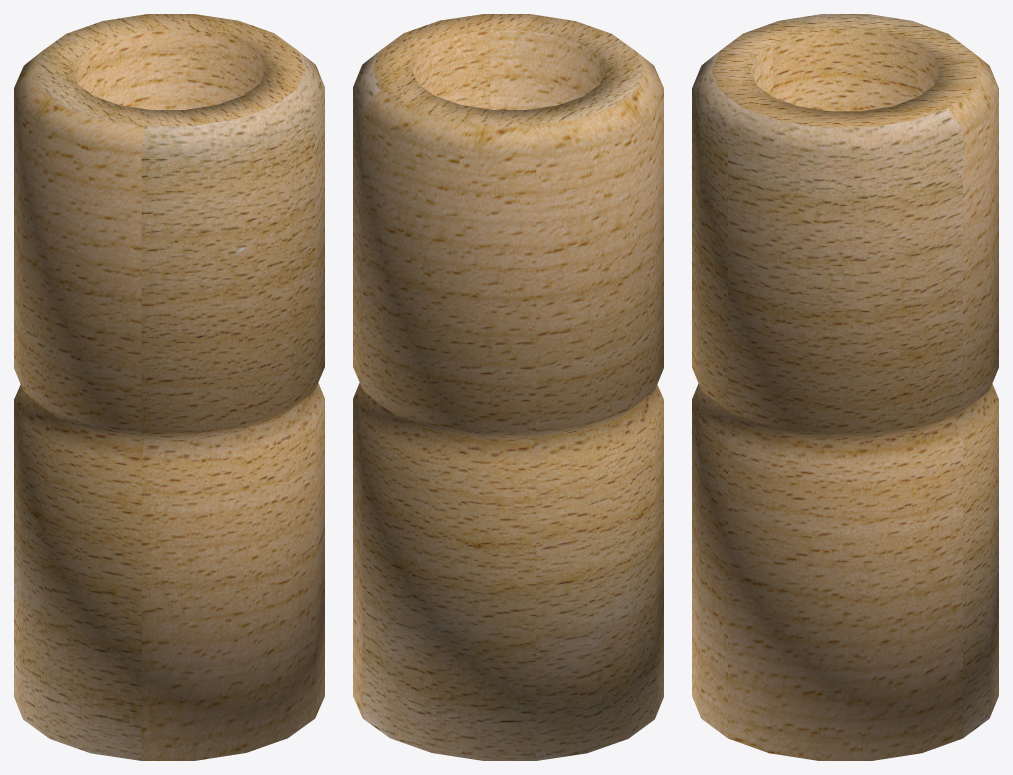
Rendered from Koma_C_Lo_C1.fbx.
3 renders of one model, left to right at view 1: azimuth 30°, elevation 25°; view 2: azimuth 150°, elevation 25°; view 3: azimuth 270°, elevation 25°, orthographic.
Visible parts, largest first — view 1: Koma_C_Lo_C1; view 2: Koma_C_Lo_C1; view 3: Koma_C_Lo_C1.
Part boxes in pixels (left/top/right/bottom): Koma_C_Lo_C1: left=14, top=14, right=324, bottom=760; Koma_C_Lo_C1: left=353, top=14, right=663, bottom=760; Koma_C_Lo_C1: left=692, top=14, right=998, bottom=760.
Size of the model in its own units: 1.6 by 3.6 by 1.6.
1 material, 1 textured.
